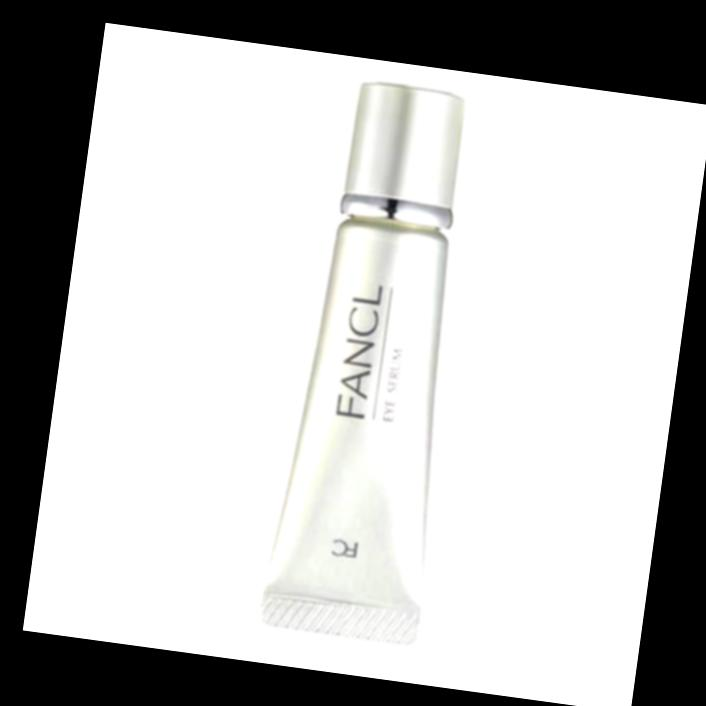cosmetic: (267, 76, 490, 649)
